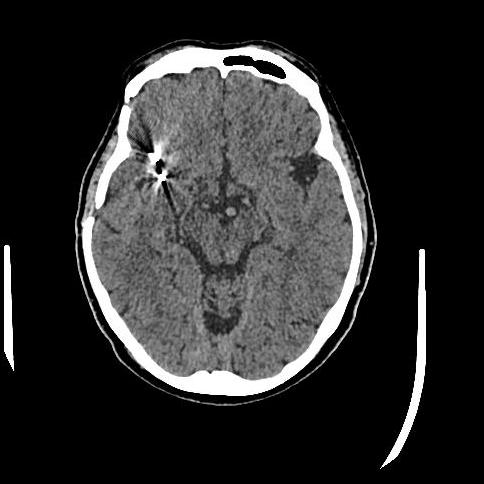Aneurysm: (137, 141, 185, 195)
